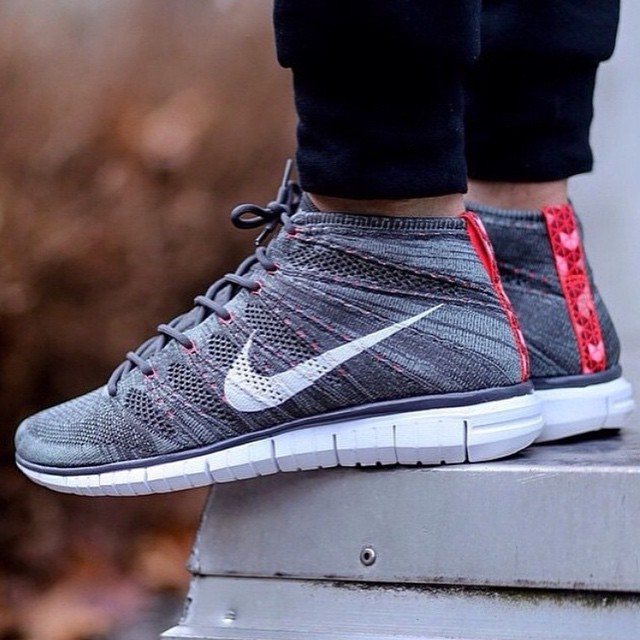sneaker: (1, 155, 555, 523), (445, 148, 640, 465)
